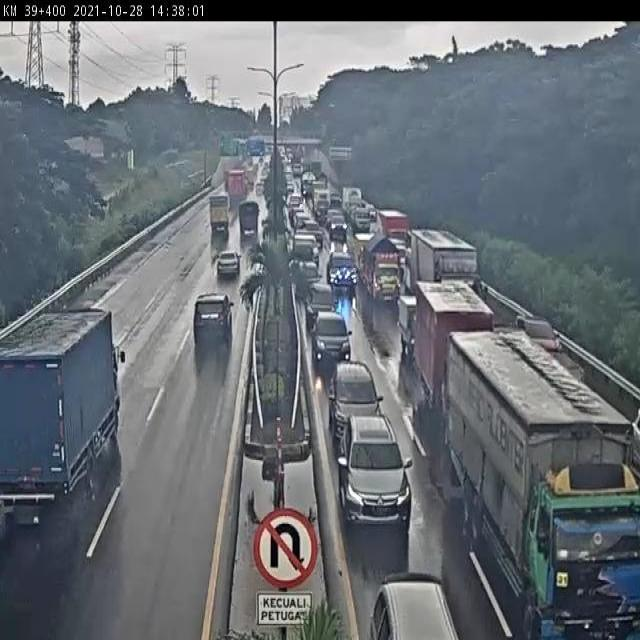big truck: (443, 320, 640, 640), (0, 292, 135, 507), (408, 275, 505, 424)
car: (340, 411, 417, 541), (355, 569, 472, 640), (322, 351, 400, 426), (513, 308, 568, 376), (312, 306, 351, 374), (192, 286, 236, 342), (207, 247, 251, 290), (306, 280, 340, 335), (326, 247, 365, 294), (289, 232, 322, 279), (292, 260, 326, 300), (235, 195, 262, 236), (325, 207, 350, 237)
small truck: (409, 229, 486, 300), (356, 230, 408, 310), (394, 291, 421, 361), (205, 184, 237, 241), (377, 202, 412, 250)
